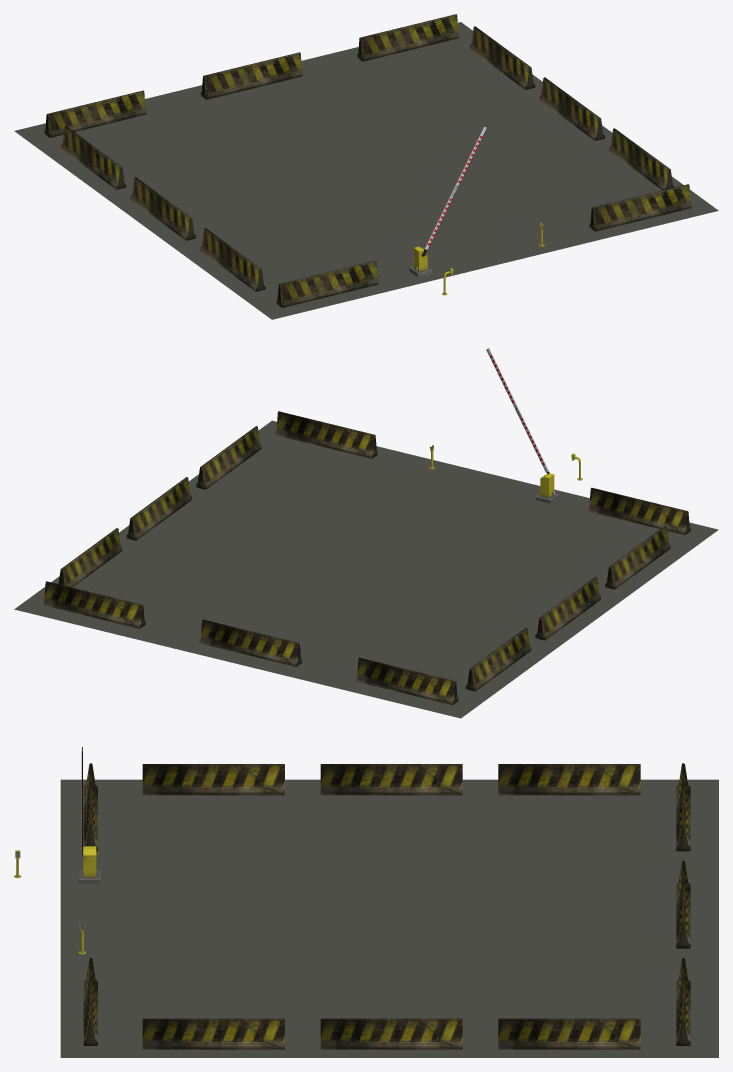
Rendered from stage3_start_floor_objects.obj.
3 views of the same model, one above another, from view 1: azimuth 30°, elevation 25°; view 2: azimuth 150°, elevation 25°; view 3: azimuth 270°, elevation 25° (orthographic). The views are drawn at different scales.
Size of the model in its own units: 100 by 28.54 by 107.
